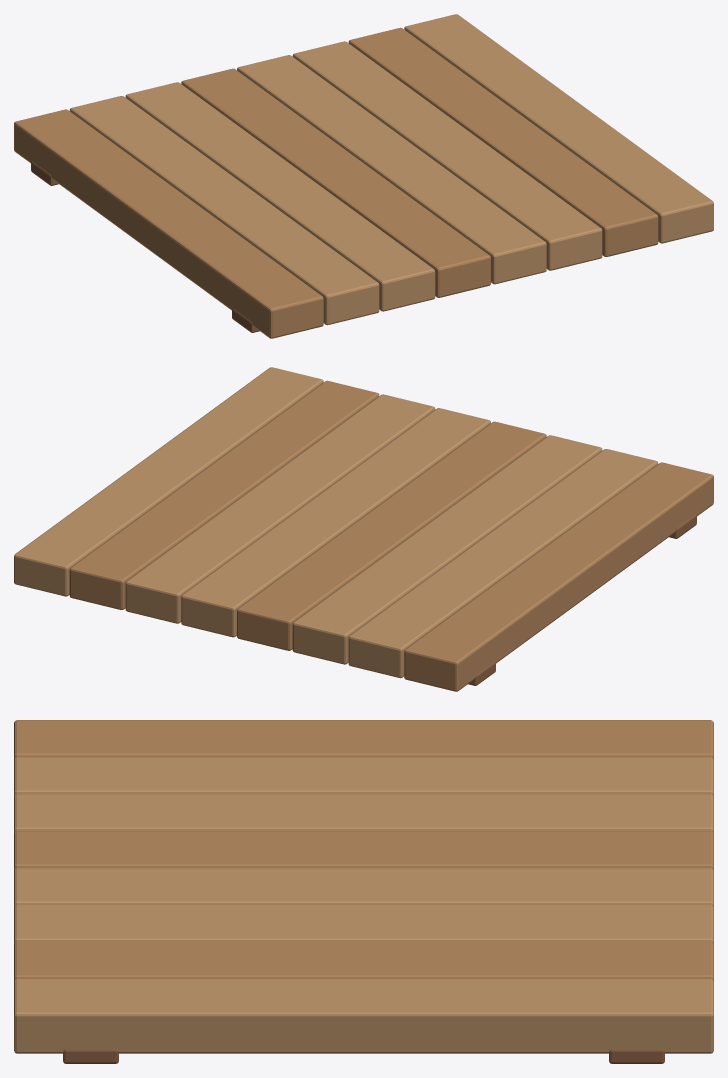
File: floor_timber_2m.glb
The picture shows the model from 3 angles, top to bottom: view 1: azimuth 30°, elevation 25°; view 2: azimuth 150°, elevation 25°; view 3: azimuth 270°, elevation 25°; orthographic projection. The views are drawn at different scales.
Parts seen in each view (by area): view 1: floor_timber_2m; view 2: floor_timber_2m; view 3: floor_timber_2m.
Part boxes in pixels (<box>): floor_timber_2m: <box>14,14,713,338</box>; floor_timber_2m: <box>14,367,713,691</box>; floor_timber_2m: <box>14,720,713,1063</box>.
Size of the model in its own units: 2 by 0.16 by 2.
